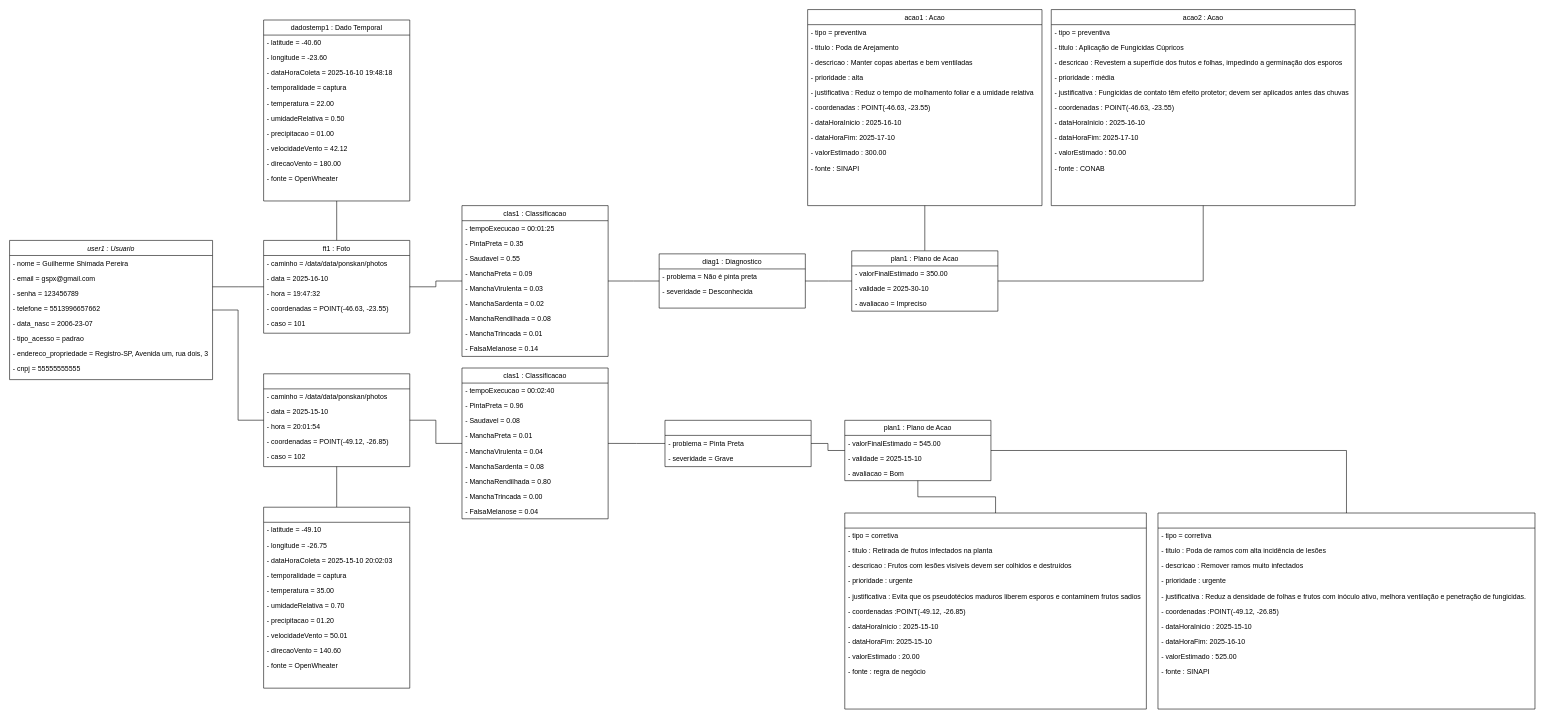
The diagram is 1545 pixels wide and 719 high, and some of its shapes have lost their labels. The shapes that lost their labels are listed below. From the top down, each one's box as (x1, y1, x2, y2) in pixels, then its label:
(263, 373, 410, 467): ft2 : Foto
(664, 420, 811, 467): diag2 : Diagnostico
(263, 507, 410, 688): dadostemp2 : Dado Temporal
(844, 512, 1146, 709): acao3 : Acao
(1157, 512, 1535, 709): acao4 : Acao
